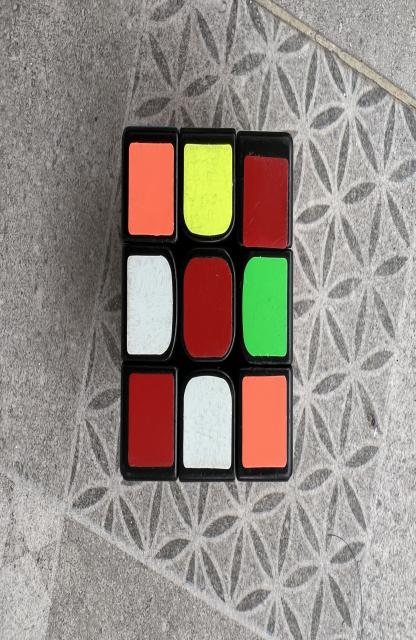Green: (242, 257, 288, 357)
Orange: (128, 142, 174, 237), (242, 375, 287, 468)
Red: (184, 257, 232, 358), (128, 373, 174, 467), (243, 155, 288, 248)
White: (183, 375, 232, 470), (127, 255, 173, 355)
Yellow: (184, 143, 232, 237)
